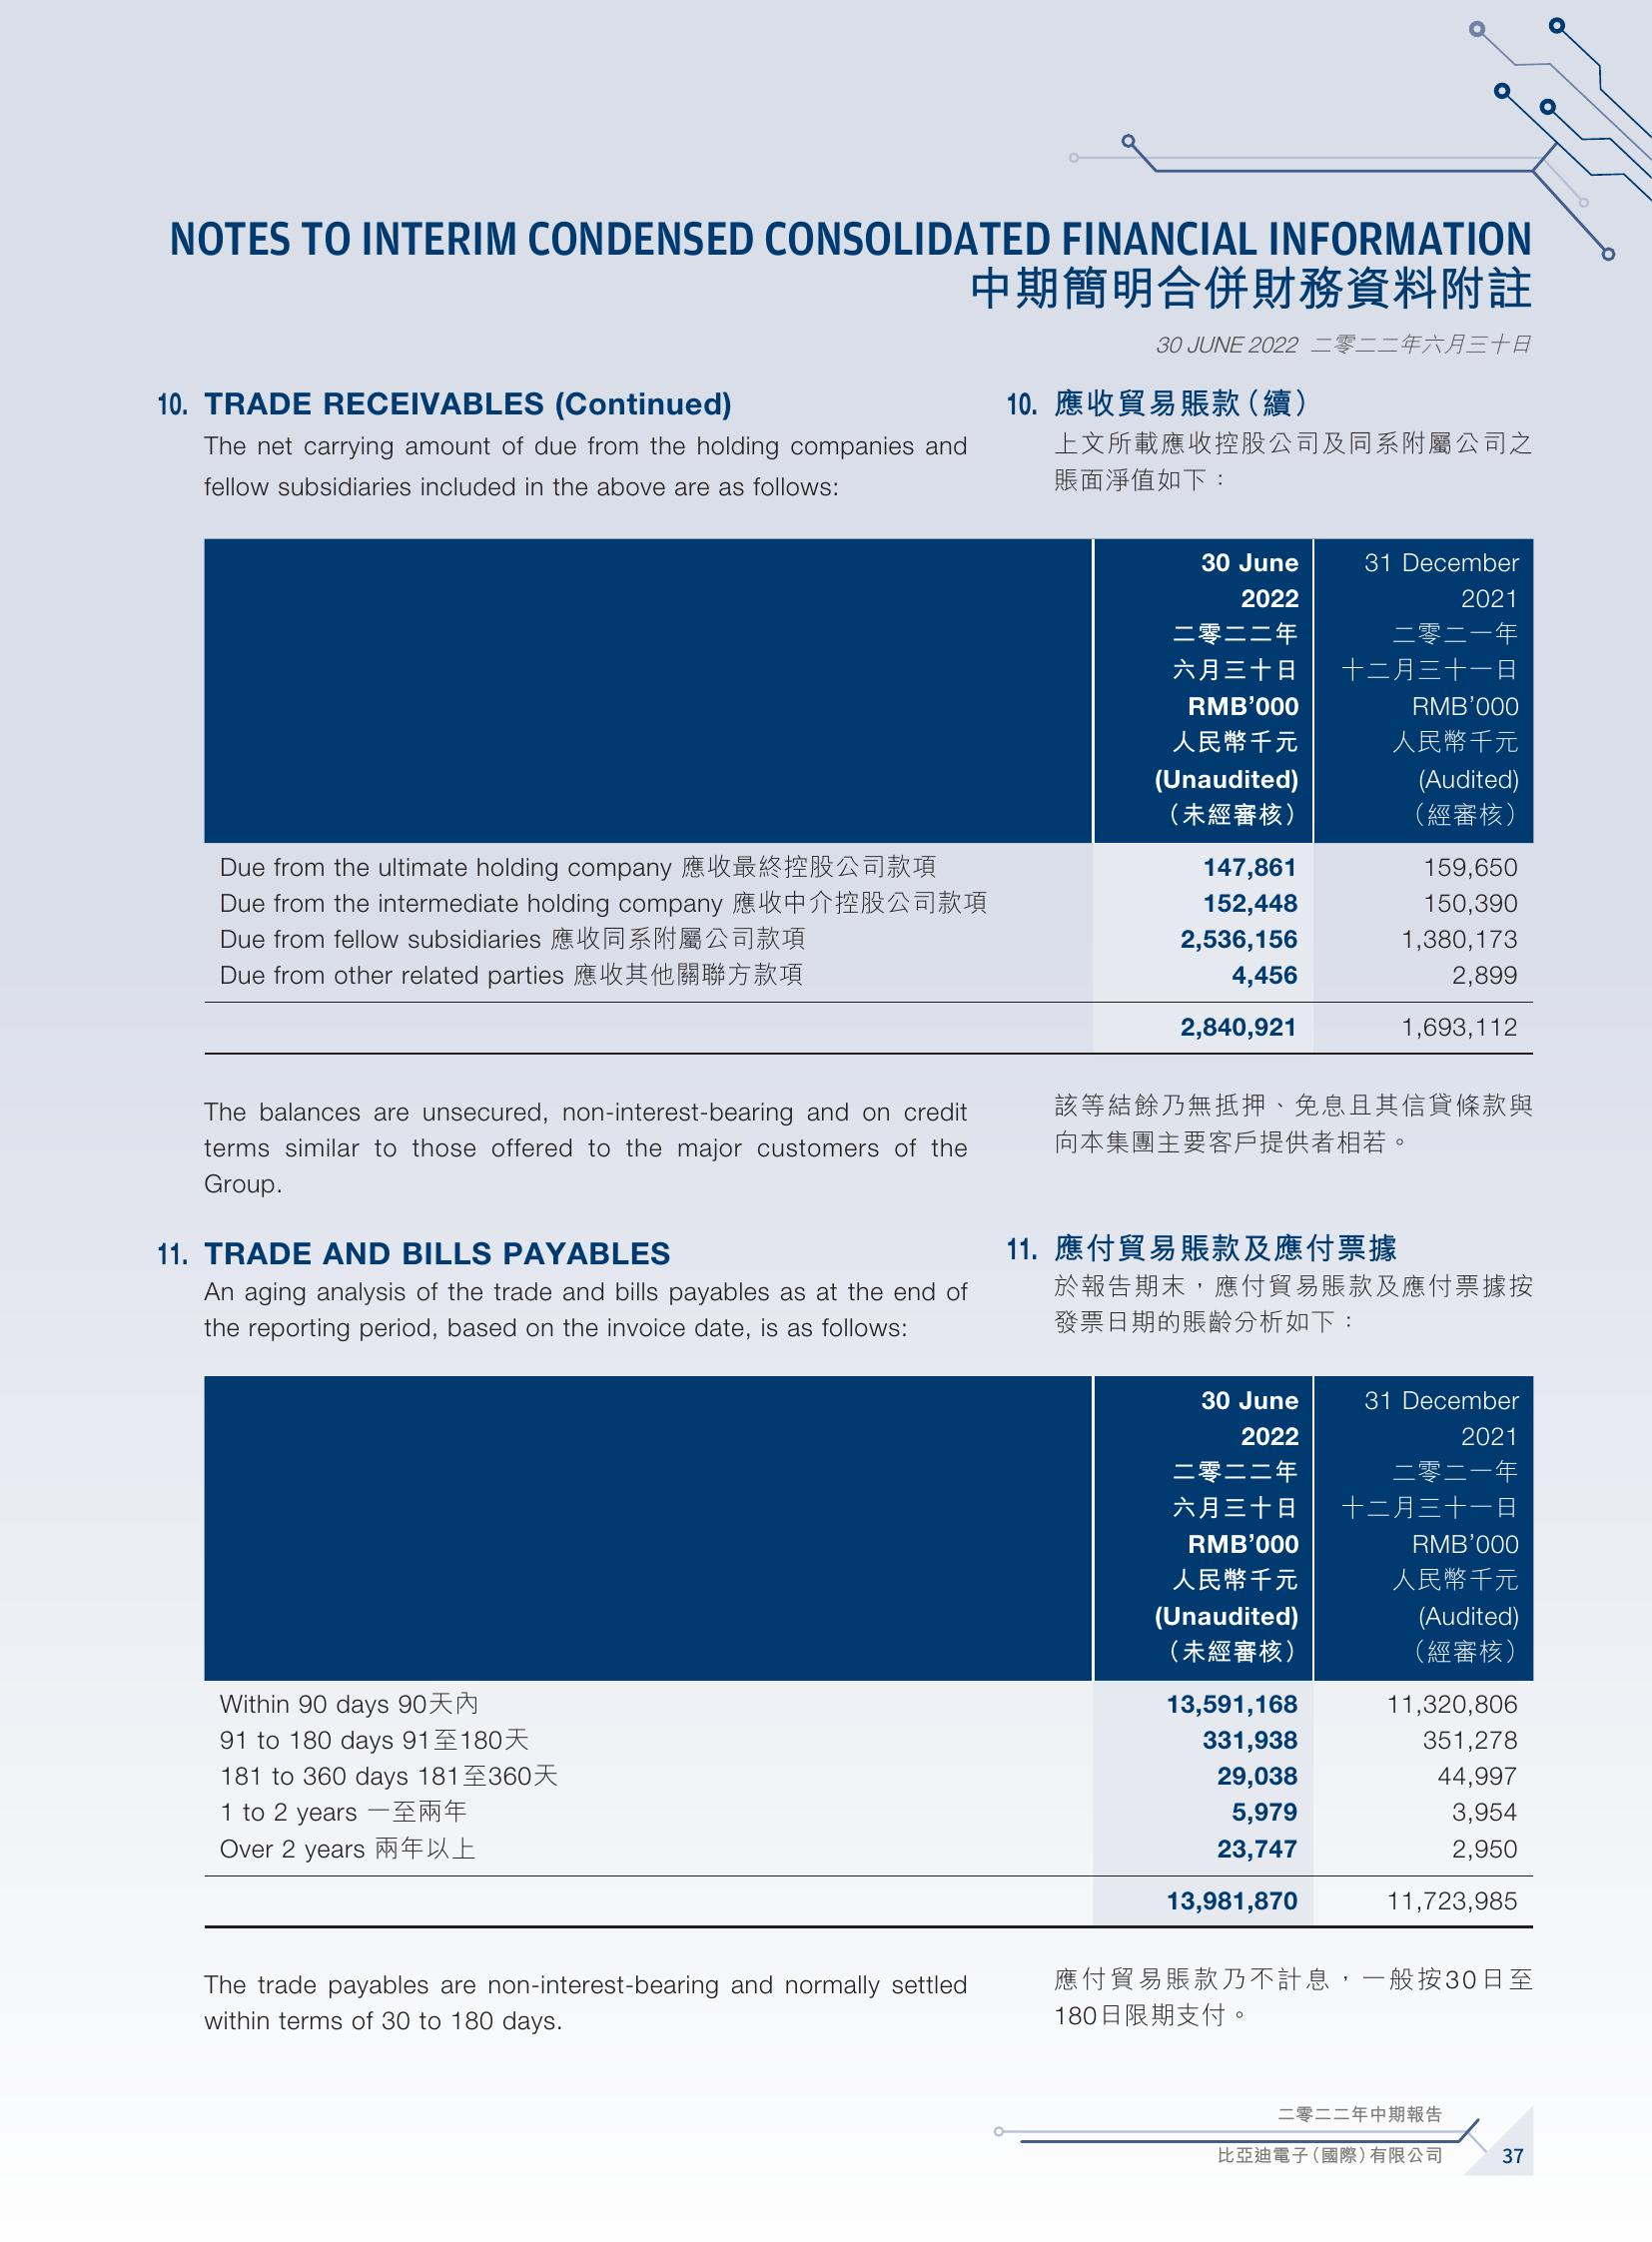Footer: (0, 2089, 1652, 2242)
Header: (0, 0, 1652, 193)
Table: (174, 1351, 1548, 1941), (171, 503, 1582, 1062)
